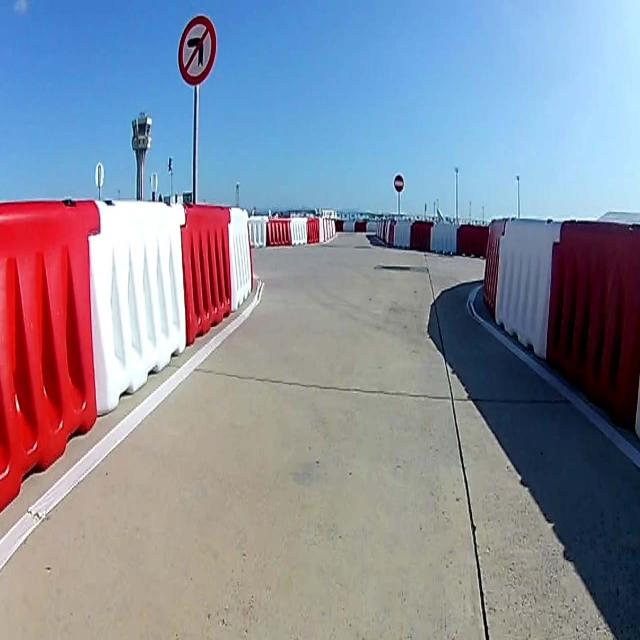girisyok: (394, 173, 404, 191)
soladonulmez: (179, 19, 217, 81)
